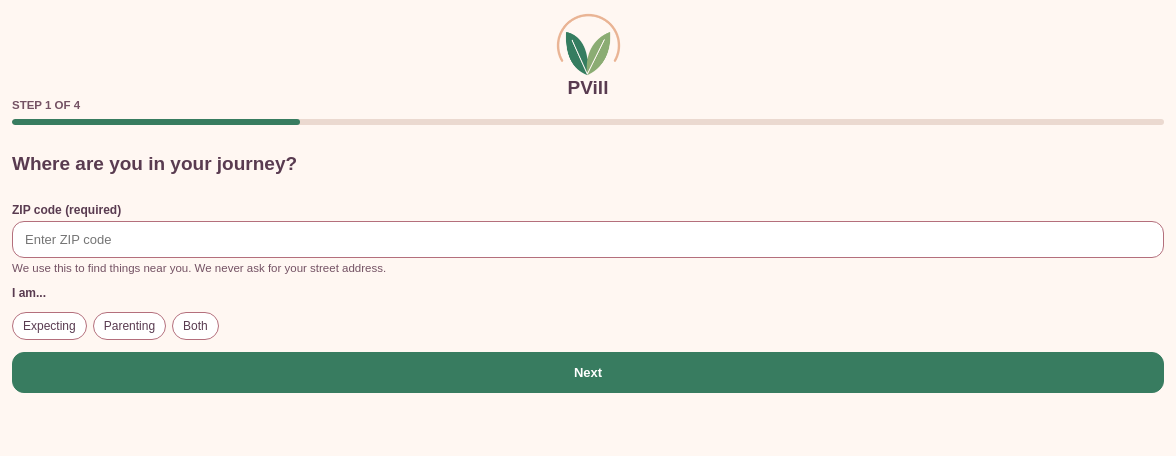
Test case: ProfileSetupPage › says which answer is missing on step 1 and keeps only digits in the ZIP
Expected: the text "Step 1 of 4" is shown, [12,99,80,111]
Type "37a2" into the field labelled "ZIP code (required)" at (588, 239), box [12,220,1164,258]
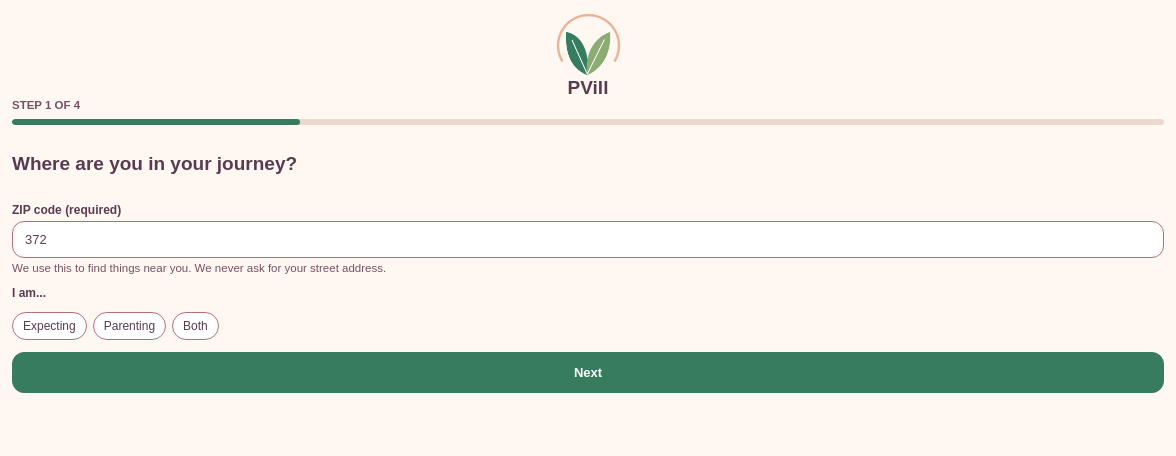
Expected: the field labelled "ZIP code (required)" holds "372", [12,220,1164,258]
Click the button "Next" at (588, 372), box [12,352,1164,392]
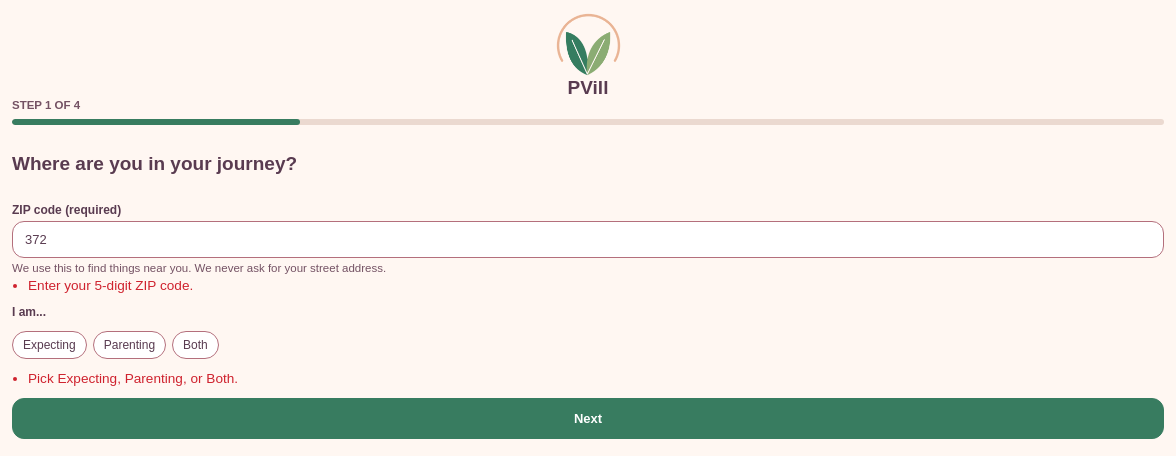
Expected: the text "Step 1 of 4" is shown, [12,99,80,111]
Expected: the list item "Enter your 5-digit ZIP code." is shown, [28,278,193,292]
Expected: the list item "Pick Expecting, Parenting, or Both." is shown, [28,370,238,386]
